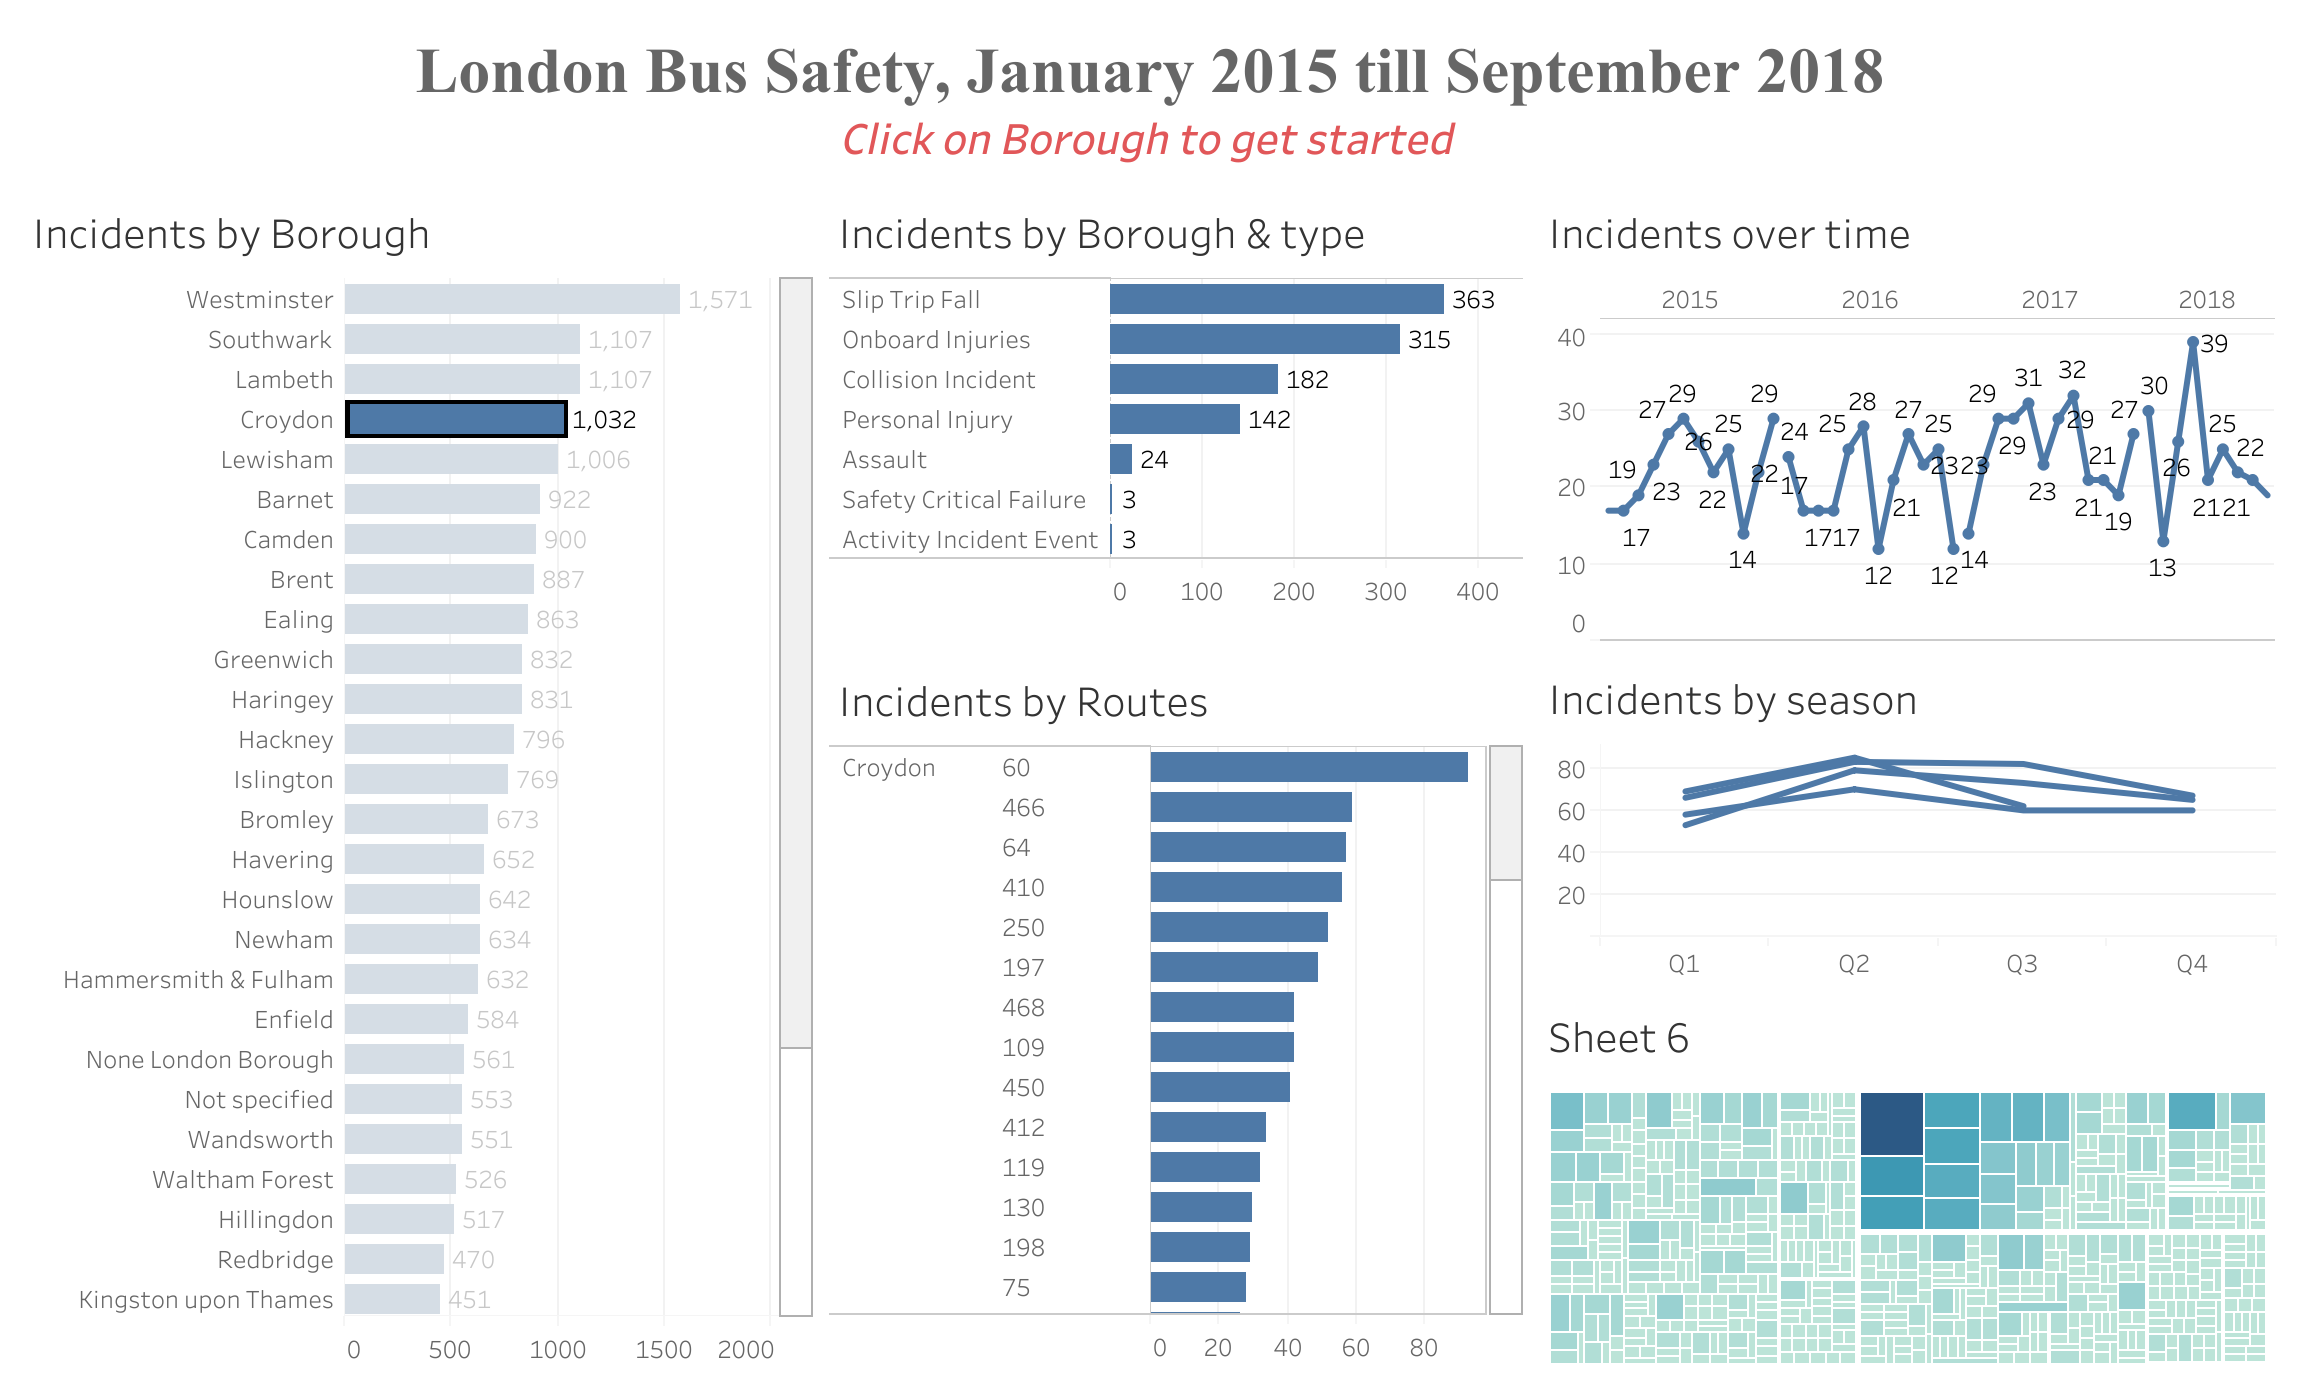

Layout of this report page (visuals, bound fields, positions):
{"tool":"tableau","page":{"name":"Dashboard 1","canvas":[1150,700],"ordinal":0},"visuals":[{"type":"text","box":[8,8,1134,84]},{"type":"worksheet","title":"Incidents by Borough","mark":"Automatic","rows":["Borough"],"cols":["Sheet1_F9BCD572CC224C9E9E4D72812E11E3C0"],"box":[8,92,403,600]},{"type":"worksheet","title":"Incidents by Borough & type","mark":"Automatic","rows":["Borough","Incident Event Type"],"cols":["Sheet1_F9BCD572CC224C9E9E4D72812E11E3C0"],"box":[411,92,355,233.5]},{"type":"worksheet","title":"Incidents over time","mark":"Automatic","rows":["Sheet1_F9BCD572CC224C9E9E4D72812E11E3C0"],"cols":["Date Of Incident","Date Of Incident"],"box":[766,92,376,233.3]},{"type":"worksheet","title":"Incidents by season","mark":"Automatic","rows":["Sheet1_F9BCD572CC224C9E9E4D72812E11E3C0"],"cols":["Date Of Incident"],"box":[766,325.3,376,168.4]},{"type":"worksheet","title":"Incidents by Routes","mark":"Automatic","rows":["Borough","Route"],"cols":["Sheet1_F9BCD572CC224C9E9E4D72812E11E3C0"],"box":[411,325.5,355,366.5]},{"type":"worksheet","title":"Sheet 6","mark":"Automatic","box":[766,493.8,376,198.2]}]}

Visuals, with their boxes in screenshot pixels (x1, y1, x2, y2), scaled from the page's 1150x700 canvas onto the 2298x1398 screenshot:
text: bbox(16, 16, 2282, 184)
"Incidents by Borough" worksheet: bbox(16, 184, 821, 1382)
"Incidents by Borough & type" worksheet: bbox(821, 184, 1531, 650)
"Incidents over time" worksheet: bbox(1531, 184, 2282, 650)
"Incidents by season" worksheet: bbox(1531, 650, 2282, 986)
"Incidents by Routes" worksheet: bbox(821, 650, 1531, 1382)
"Sheet 6" worksheet: bbox(1531, 986, 2282, 1382)
